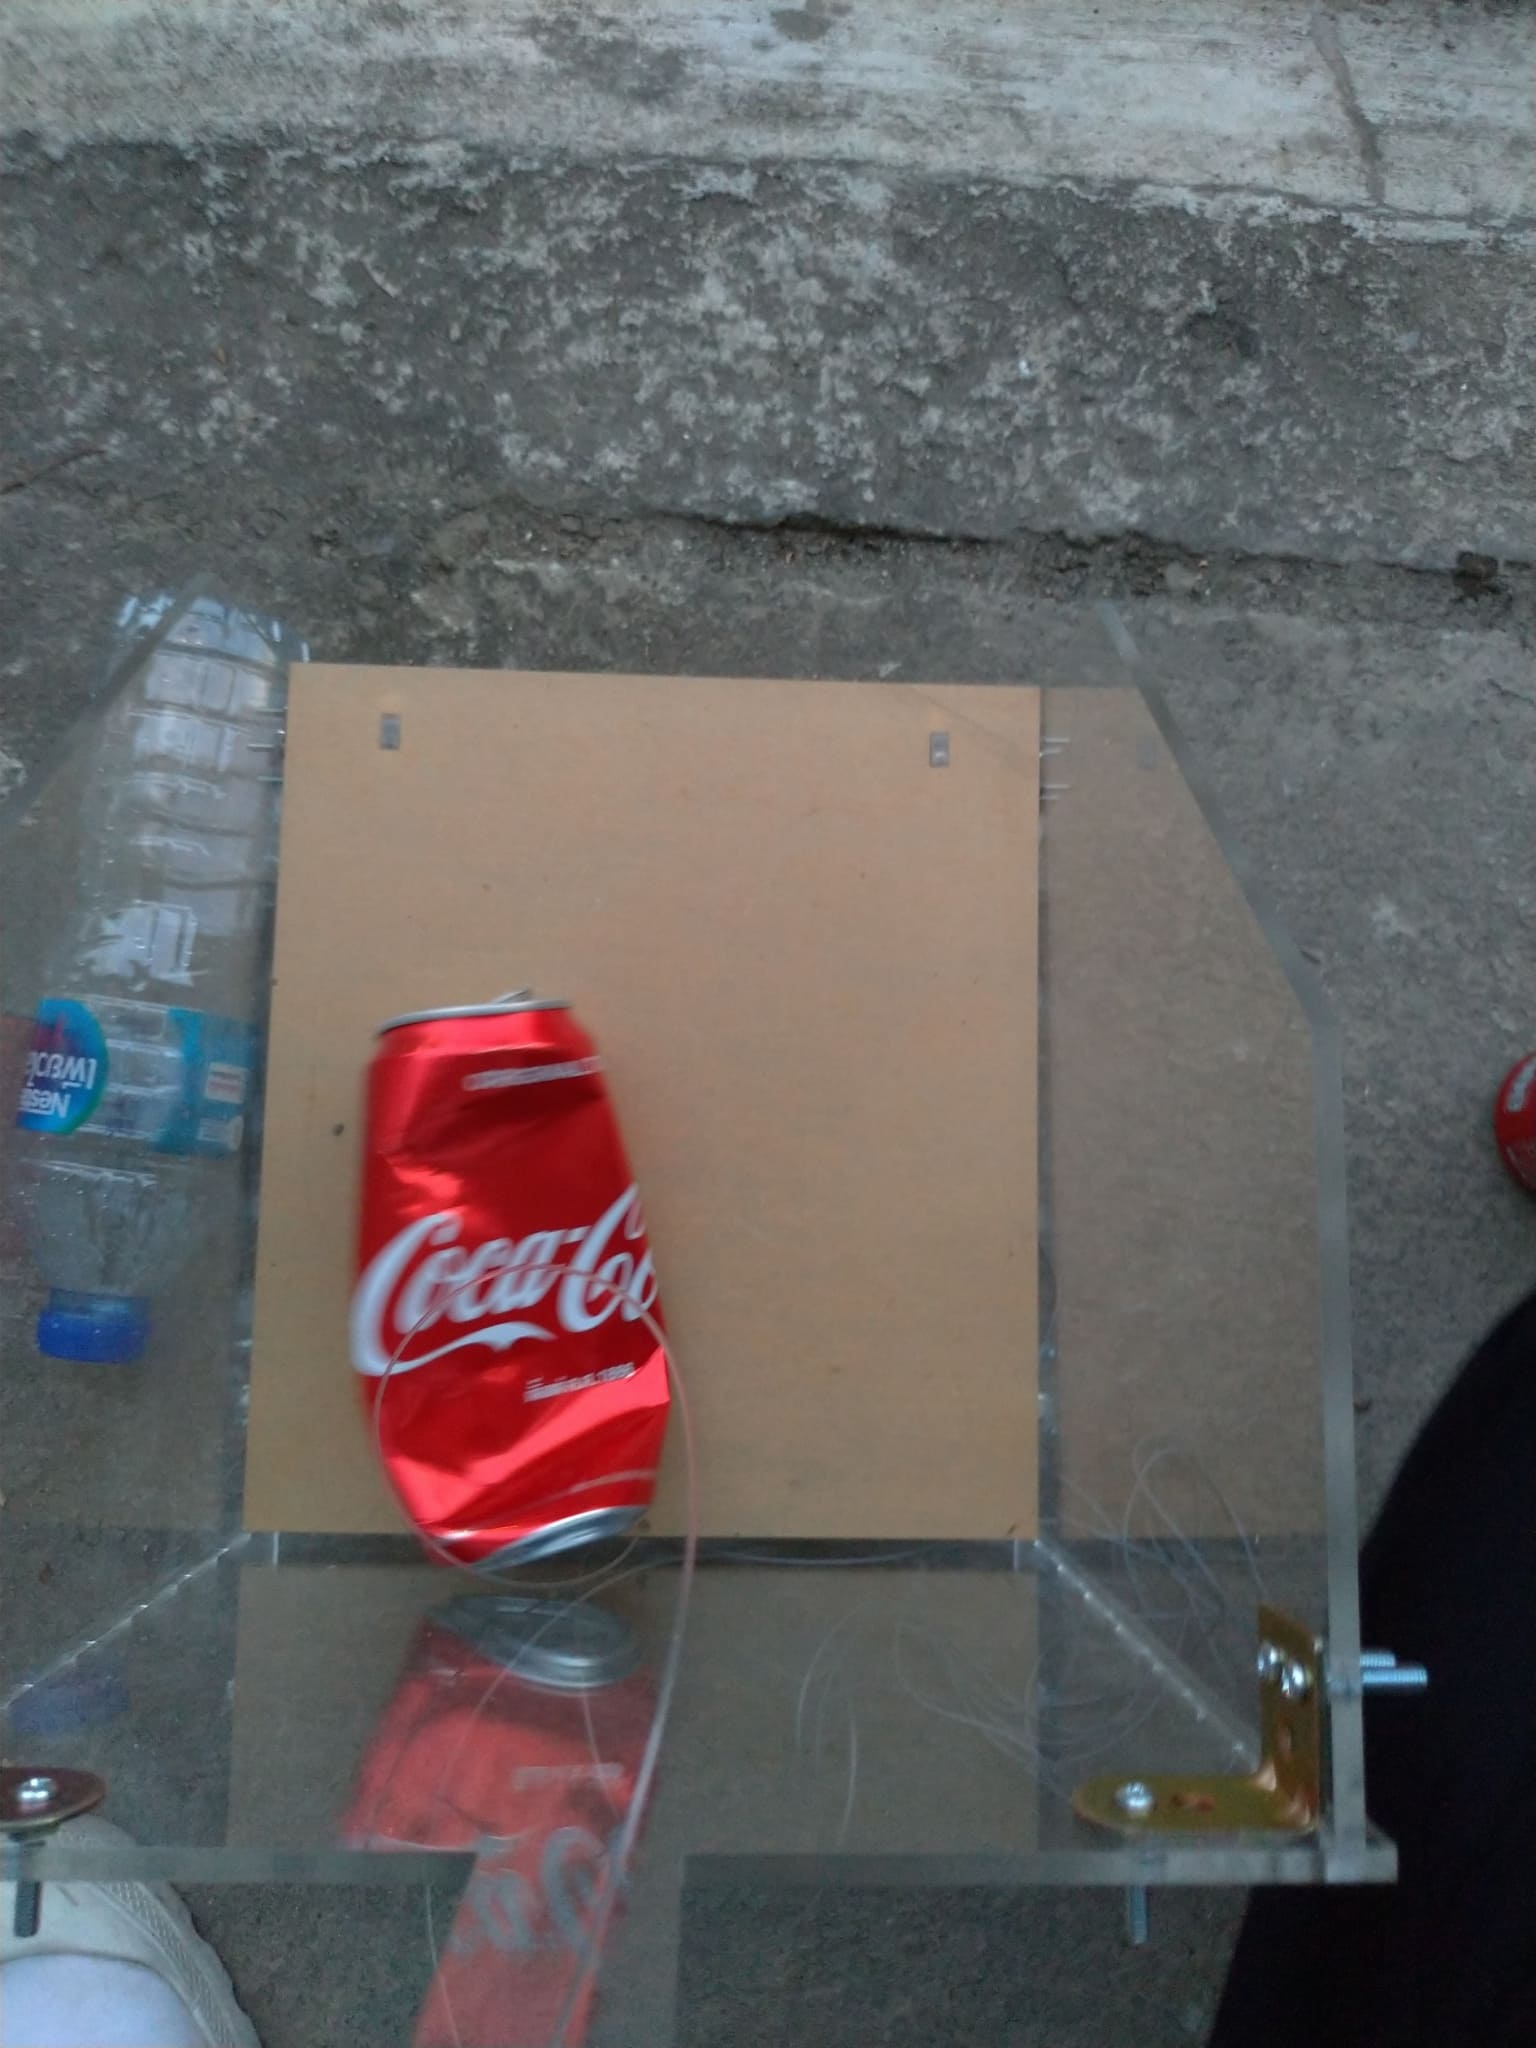AlCan: (349, 1000, 682, 1577)
PlasticBottle: (15, 593, 337, 1374)
